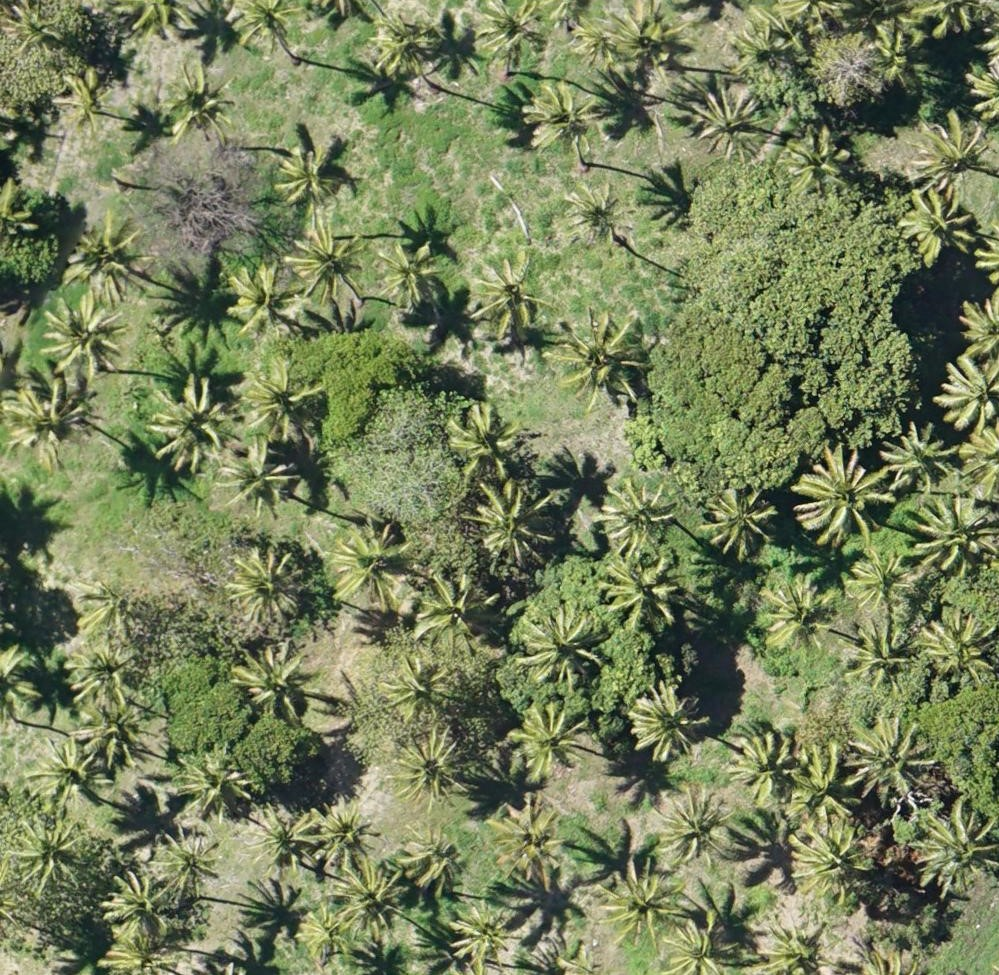Palm: (555, 311, 648, 409), (1, 378, 96, 468), (793, 447, 882, 539), (853, 716, 943, 803), (465, 482, 553, 568), (41, 292, 124, 383), (485, 798, 569, 887), (148, 376, 227, 469), (916, 805, 998, 893), (412, 574, 499, 654), (784, 818, 867, 901), (589, 475, 677, 553), (524, 603, 605, 687), (241, 355, 320, 441), (209, 439, 294, 518), (652, 789, 733, 871), (28, 734, 113, 811), (329, 522, 409, 602), (62, 218, 139, 301), (227, 543, 307, 622), (391, 732, 470, 812), (604, 866, 686, 942), (604, 559, 684, 636), (396, 817, 472, 898), (447, 402, 525, 479), (913, 497, 992, 573), (288, 220, 362, 301), (698, 490, 781, 561), (470, 255, 540, 339), (911, 113, 985, 192), (899, 185, 973, 264), (915, 616, 994, 690), (629, 684, 707, 758), (164, 64, 236, 143), (13, 813, 89, 887), (236, 644, 310, 719), (886, 422, 957, 500), (520, 83, 594, 156), (176, 751, 251, 823), (613, 3, 686, 76), (692, 88, 764, 162), (510, 708, 585, 779), (329, 867, 405, 937), (789, 743, 856, 822), (231, 259, 302, 332), (371, 236, 437, 312), (67, 646, 143, 711), (106, 873, 173, 946), (763, 580, 831, 651), (730, 731, 797, 802), (754, 911, 828, 975), (841, 624, 912, 690), (935, 358, 998, 432), (563, 177, 629, 245), (76, 705, 147, 768), (728, 13, 795, 79), (449, 906, 514, 972), (480, 3, 550, 64), (786, 129, 851, 194), (153, 832, 218, 897), (73, 582, 141, 644), (227, 1, 305, 55), (383, 657, 450, 719), (667, 919, 743, 973), (256, 803, 317, 870), (374, 14, 435, 78), (317, 807, 377, 871), (270, 146, 332, 207), (851, 553, 914, 613), (4, 2, 64, 59), (569, 12, 625, 72), (298, 906, 351, 963), (55, 73, 113, 125)
